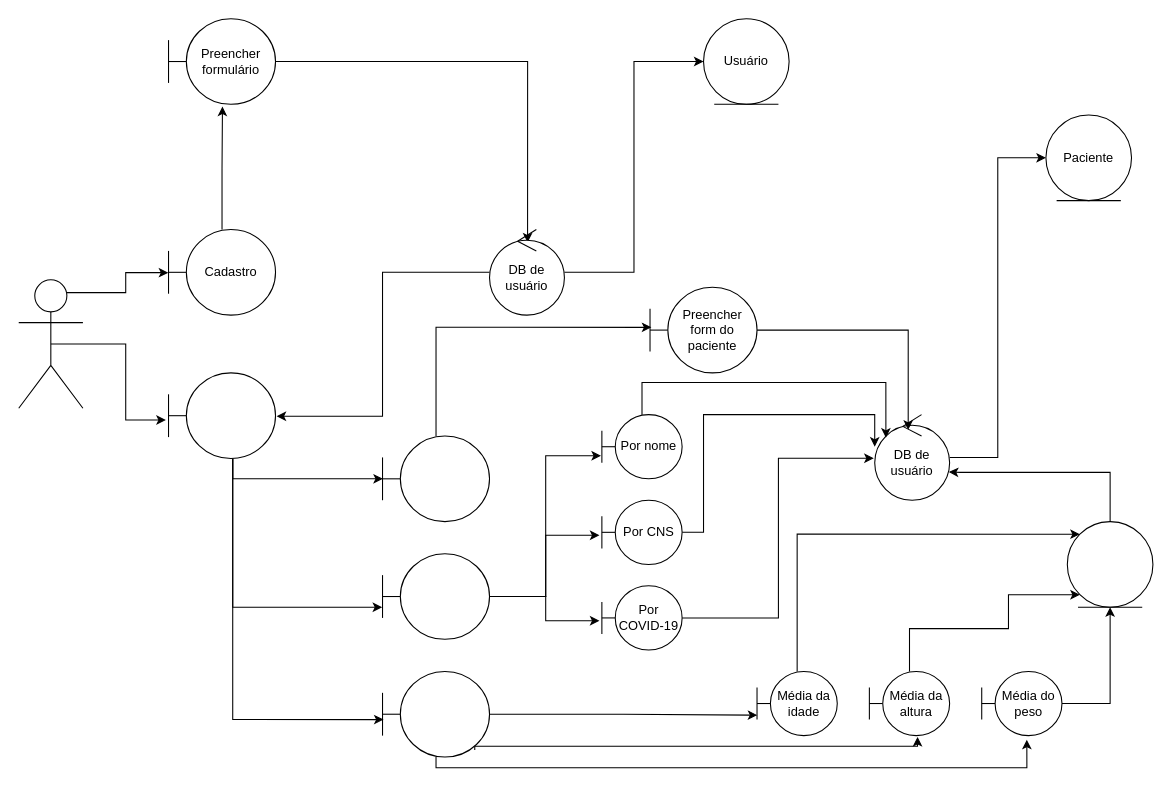
Some shapes in this 1172 by 795 pixel diagram are drawn without their labels. Each missing label, with the centre of its shape:
"Actor" belongs at (50,343).
"Cadastrar Paciente" belongs at (435,478).
"Cálculos estatísticos" belongs at (1109,564).
"Dados estatísticos de pacientes com COVID-19" belongs at (435,713).
"Login" belongs at (221,415).
"Pesquisar Paciente" belongs at (435,596).
